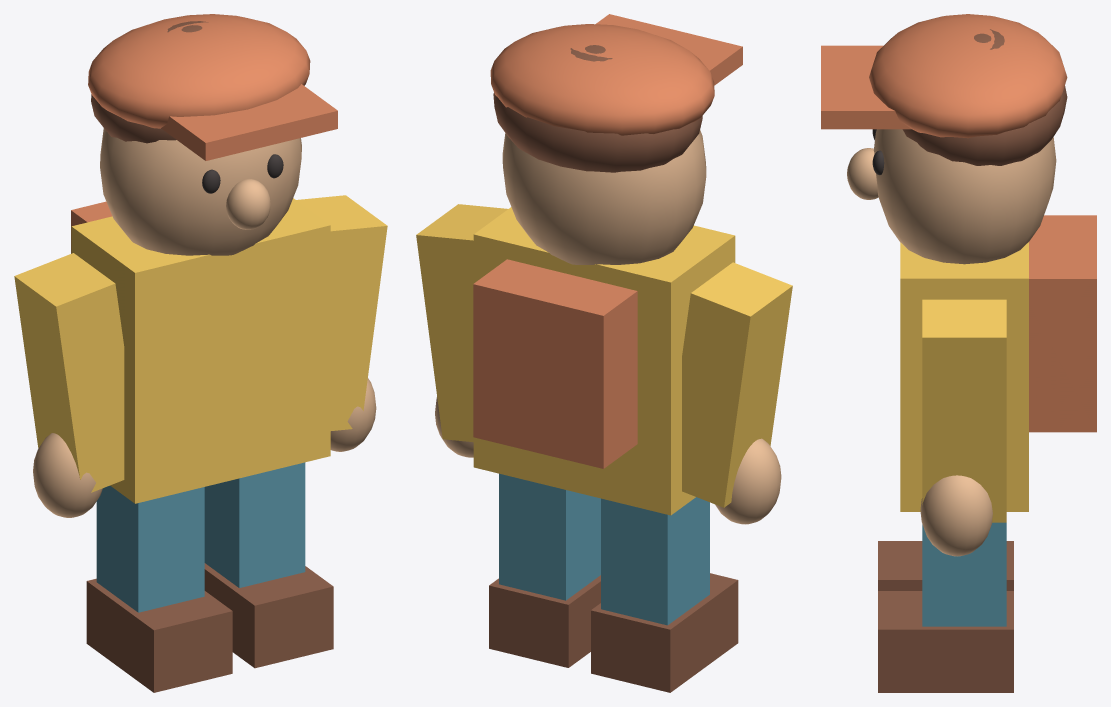
Rendered from player.glb.
The picture shows the model from 3 angles, left to right: view 1: azimuth 30°, elevation 25°; view 2: azimuth 150°, elevation 25°; view 3: azimuth 270°, elevation 25°; orthographic projection.
Parts seen in each view (by area): view 1: Jacket, Arm, Cap, Head.005, Leg, Shoe, Leg.001, Arm.001, Shoe.001, Cap brim, Hand, Nose.004 (+3 smaller); view 2: Backpack, Jacket, Arm, Cap, Head.005, Leg, Arm.001, Leg.001, Shoe, Hair, Shoe.001, Hand (+1 smaller); view 3: Cap, Head.005, Arm.001, Jacket, Backpack, Shoe.001, Leg.001, Cap brim, Hand.001, Hair, Shoe, Nose.004.
Part boxes in pixels (bbox=[...]): Jacket: bbox=[71, 198, 330, 503]; Arm: bbox=[14, 253, 124, 492]; Cap: bbox=[88, 14, 310, 128]; Head.005: bbox=[100, 128, 301, 255]; Leg: bbox=[96, 485, 204, 612]; Shoe: bbox=[86, 578, 232, 692]; Leg.001: bbox=[204, 462, 305, 587]; Arm.001: bbox=[296, 195, 387, 430]; Shoe.001: bbox=[204, 563, 333, 668]; Cap brim: bbox=[161, 84, 337, 160]; Hand: bbox=[33, 433, 102, 517]; Nose.004: bbox=[226, 178, 270, 229]; Backpack: bbox=[473, 259, 637, 468]; Jacket: bbox=[473, 207, 735, 515]; Arm: bbox=[682, 262, 792, 507]; Cap: bbox=[490, 24, 714, 135]; Head.005: bbox=[502, 130, 706, 264]; Leg: bbox=[601, 497, 709, 625]; Arm.001: bbox=[416, 204, 507, 442]; Leg.001: bbox=[499, 473, 600, 600]; Shoe: bbox=[591, 573, 738, 692]; Hair: bbox=[493, 45, 702, 172]; Shoe.001: bbox=[489, 575, 600, 667]; Hand: bbox=[715, 438, 781, 524]; Cap: bbox=[869, 14, 1067, 138]; Head.005: bbox=[873, 129, 1056, 264]; Arm.001: bbox=[922, 299, 1006, 522]; Jacket: bbox=[900, 242, 1028, 511]; Backpack: bbox=[1029, 215, 1096, 432]; Shoe.001: bbox=[878, 591, 1013, 692]; Leg.001: bbox=[922, 522, 1006, 626]; Cap brim: bbox=[821, 45, 911, 129]; Hand.001: bbox=[920, 475, 992, 556]; Hair: bbox=[902, 29, 1067, 165]; Shoe: bbox=[878, 541, 1013, 590]; Nose.004: bbox=[847, 148, 878, 199].
Size of the model in its own units: 1.06 by 1.84 by 0.75.
